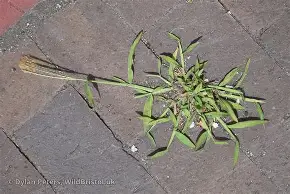weed: (110, 42, 284, 158)
